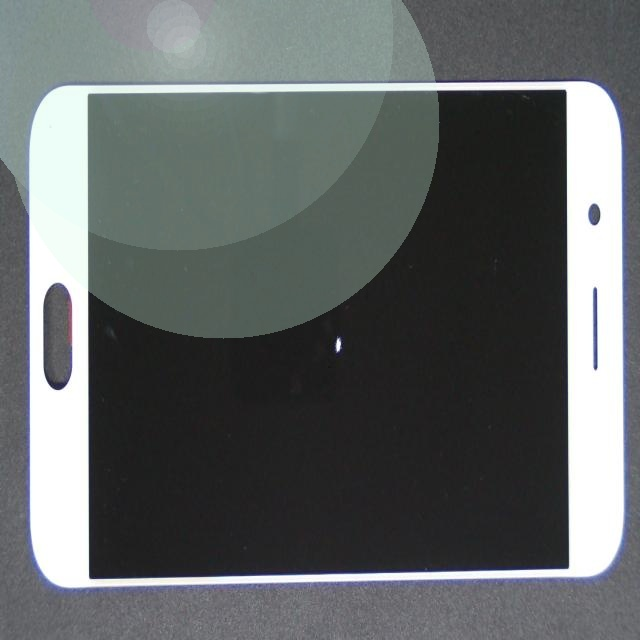stain: (161, 192, 484, 577)
